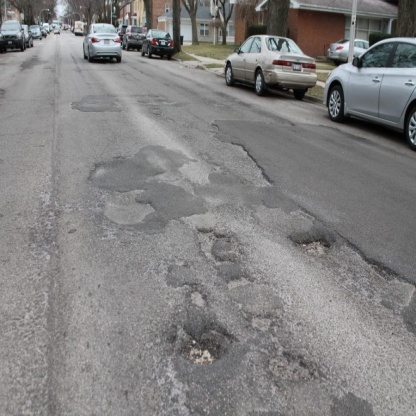pothole: (166, 301, 226, 376), (204, 136, 281, 193), (183, 224, 247, 286), (281, 223, 337, 265)
